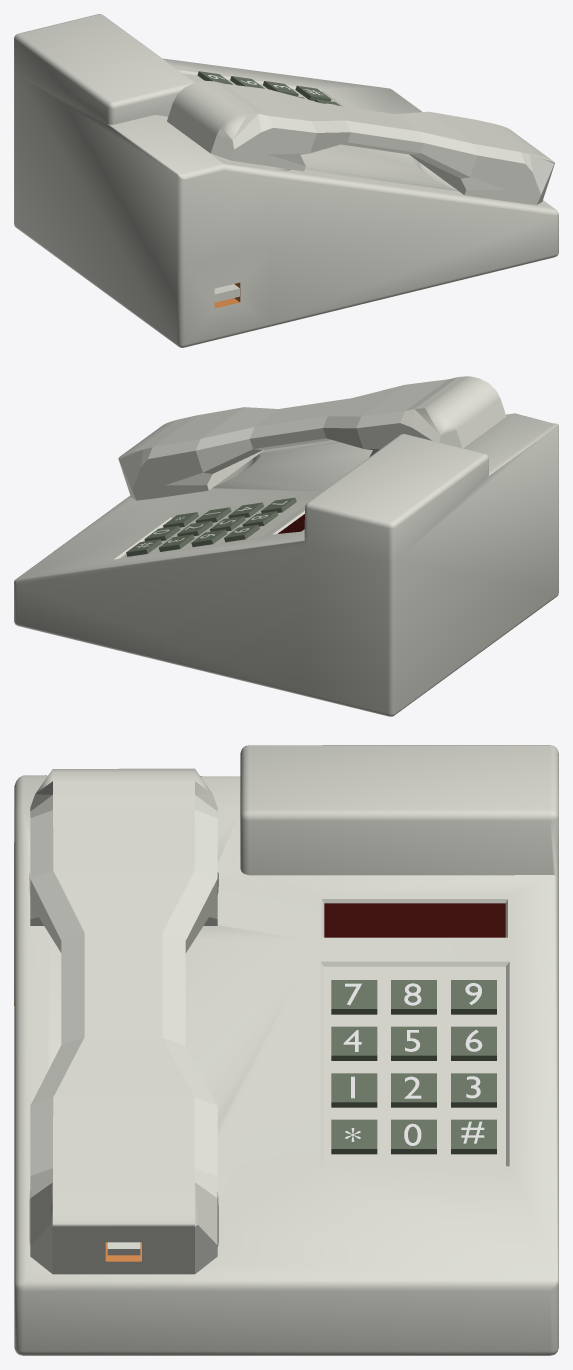
The model's file is asset.glb.
3 views of the same model, one above another, from view 1: azimuth 30°, elevation 25°; view 2: azimuth 150°, elevation 25°; view 3: azimuth 270°, elevation 25° (orthographic). The views are drawn at different scales.
Visible parts, largest first — view 1: Telephone, Telephone1; view 2: Telephone, Telephone1; view 3: Telephone, Telephone1, Button, Button1, Button7, Button4, Button#, Button0, Button3, Button2, Button5, Button6 (+2 smaller).
Boxes of the visible parts, <box> form: Telephone: <box>14,14,558,347</box>; Telephone1: <box>167,80,554,204</box>; Telephone: <box>14,413,558,716</box>; Telephone1: <box>118,376,506,500</box>; Telephone: <box>14,745,558,1355</box>; Telephone1: <box>30,768,217,1274</box>; Button: <box>331,1119,377,1154</box>; Button1: <box>331,1073,377,1107</box>; Button7: <box>331,980,377,1014</box>; Button4: <box>331,1026,377,1060</box>; Button#: <box>451,1119,496,1154</box>; Button0: <box>391,1119,436,1154</box>; Button3: <box>451,1073,496,1107</box>; Button2: <box>391,1073,436,1107</box>; Button5: <box>391,1026,436,1060</box>; Button6: <box>451,1026,496,1060</box>.
Bounding box in the file's own units: 2.66 × 1.38 × 2.
